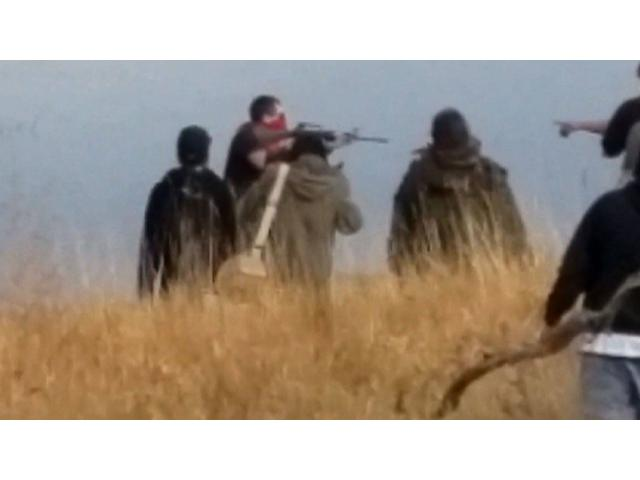rifle: (252, 119, 395, 149)
